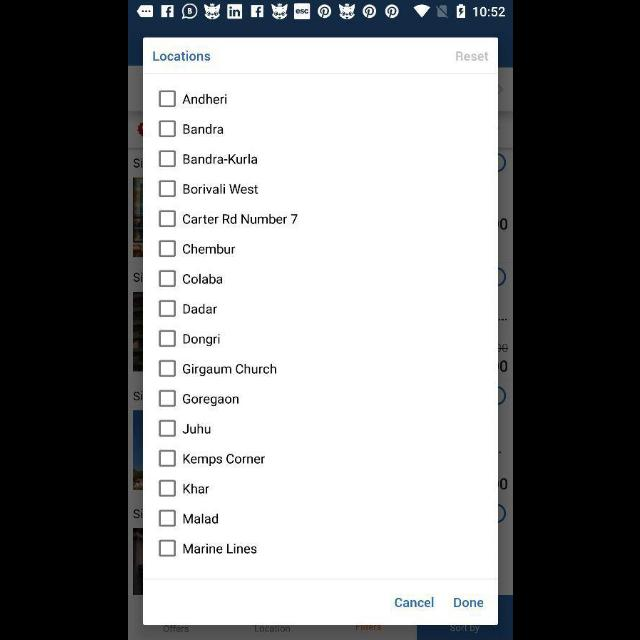checkbox: (158, 120, 176, 138), (158, 210, 176, 228), (158, 90, 175, 108), (158, 150, 175, 168), (158, 180, 175, 198), (157, 509, 175, 526), (158, 329, 175, 346), (158, 359, 175, 376), (158, 389, 175, 406), (158, 419, 175, 436), (158, 449, 175, 466), (158, 479, 175, 496), (158, 240, 176, 256), (158, 270, 175, 286), (158, 300, 175, 316), (158, 540, 175, 556)
panel: (142, 39, 498, 626)
text: (182, 213, 298, 225), (182, 363, 276, 377), (183, 454, 265, 466), (183, 153, 257, 165), (182, 183, 258, 194), (183, 544, 257, 554), (182, 394, 238, 406), (152, 50, 210, 61), (182, 243, 235, 254), (182, 94, 226, 106), (183, 124, 223, 136), (393, 596, 433, 608), (182, 334, 220, 346), (182, 274, 222, 284), (182, 514, 218, 524), (454, 52, 488, 62), (182, 424, 210, 436), (184, 304, 216, 314), (182, 482, 208, 494), (453, 598, 483, 608)
uppertaskbar: (128, 1, 512, 23)
